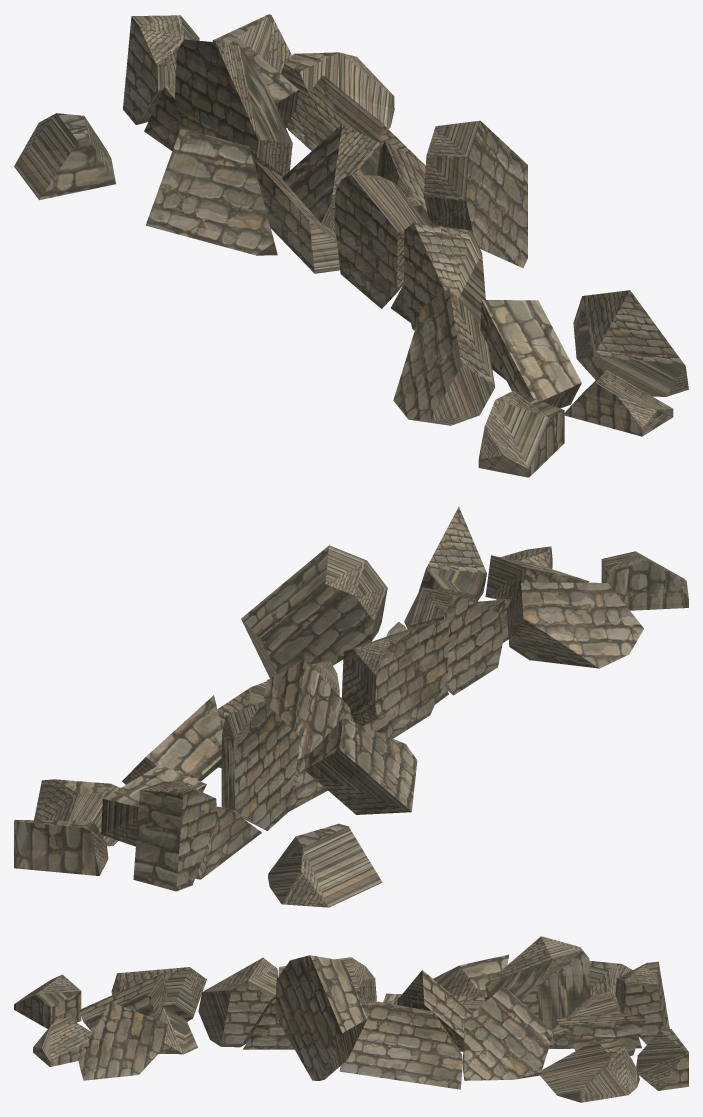
Rendered from BreakWallLarge_000016.obj.
The picture shows the model from 3 angles, top to bottom: view 1: azimuth 30°, elevation 25°; view 2: azimuth 150°, elevation 25°; view 3: azimuth 270°, elevation 25°; orthographic projection. The views are drawn at different scales.
Parts seen in each view (by area): view 1: Cube.057_cell.018_Cube.057_cell.017, Cube.057_cell.017_Cube.057_cell.016, Cube.057_cell.014_Cube.057_cell.013, Cube.057_cell.021_Cube.057_cell.020, Cube.057_cell.013_Cube.057_cell.012, Cube.057_cell.007_Cube.057_cell.006, Cube.057_cell.011_Cube.057_cell.010, Cube.057_cell.010_Cube.057_cell.009, Cube.057_cell.001_Cube.057_cell.000, Cube.057_cell.015_Cube.057_cell.014, Cube.057_cell.003_Cube.057_cell.002, Cube.057_cell_Cube.057_cell.022 (+8 smaller); view 2: Cube.057_cell.018_Cube.057_cell.017, Cube.057_cell.021_Cube.057_cell.020, Cube.057_cell.013_Cube.057_cell.012, Cube.057_cell.014_Cube.057_cell.013, Cube.057_cell.017_Cube.057_cell.016, Cube.057_cell.003_Cube.057_cell.002, Cube.057_cell.001_Cube.057_cell.000, Cube.057_cell.010_Cube.057_cell.009, Cube.057_cell.019_Cube.057_cell.018, Cube.057_cell_Cube.057_cell.022, Cube.057_cell.020_Cube.057_cell.019, Cube.057_cell.015_Cube.057_cell.014 (+8 smaller); view 3: Cube.057_cell.018_Cube.057_cell.017, Cube.057_cell.004_Cube.057_cell.003, Cube.057_cell.020_Cube.057_cell.019, Cube.057_cell.014_Cube.057_cell.013, Cube.057_cell.007_Cube.057_cell.006, Cube.057_cell.010_Cube.057_cell.009, Cube.057_cell.012_Cube.057_cell.011, Cube.057_cell.003_Cube.057_cell.002, Cube.057_cell.019_Cube.057_cell.018, Cube.057_cell_Cube.057_cell.022, Cube.057_cell.016_Cube.057_cell.015, Cube.057_cell.021_Cube.057_cell.020 (+10 smaller).
Part boxes in pixels (left/top/right/bottom): Cube.057_cell.018_Cube.057_cell.017: left=424, top=120, right=527, bottom=267; Cube.057_cell.017_Cube.057_cell.016: left=145, top=128, right=277, bottom=255; Cube.057_cell.014_Cube.057_cell.013: left=174, top=39, right=292, bottom=176; Cube.057_cell.021_Cube.057_cell.020: left=393, top=288, right=495, bottom=425; Cube.057_cell.013_Cube.057_cell.012: left=334, top=174, right=428, bottom=308; Cube.057_cell.007_Cube.057_cell.006: left=573, top=290, right=688, bottom=396; Cube.057_cell.011_Cube.057_cell.010: left=480, top=300, right=581, bottom=408; Cube.057_cell.010_Cube.057_cell.009: left=404, top=222, right=485, bottom=330; Cube.057_cell.001_Cube.057_cell.000: left=14, top=113, right=115, bottom=200; Cube.057_cell.015_Cube.057_cell.014: left=478, top=390, right=564, bottom=477; Cube.057_cell.003_Cube.057_cell.002: left=123, top=15, right=199, bottom=124; Cube.057_cell_Cube.057_cell.022: left=281, top=124, right=381, bottom=231; Cube.057_cell.018_Cube.057_cell.017: left=241, top=545, right=387, bottom=678; Cube.057_cell.021_Cube.057_cell.020: left=506, top=582, right=643, bottom=668; Cube.057_cell.013_Cube.057_cell.012: left=341, top=618, right=448, bottom=738; Cube.057_cell.014_Cube.057_cell.013: left=221, top=701, right=299, bottom=830; Cube.057_cell.017_Cube.057_cell.016: left=304, top=717, right=417, bottom=814; Cube.057_cell.003_Cube.057_cell.002: left=133, top=781, right=217, bottom=891; Cube.057_cell.001_Cube.057_cell.000: left=268, top=823, right=382, bottom=907; Cube.057_cell.010_Cube.057_cell.009: left=404, top=586, right=503, bottom=695; Cube.057_cell.019_Cube.057_cell.018: left=14, top=820, right=108, bottom=875; Cube.057_cell_Cube.057_cell.022: left=263, top=660, right=353, bottom=759; Cube.057_cell.020_Cube.057_cell.019: left=122, top=695, right=222, bottom=784; Cube.057_cell.015_Cube.057_cell.014: left=601, top=551, right=688, bottom=610; Cube.057_cell.018_Cube.057_cell.017: left=275, top=955, right=367, bottom=1080; Cube.057_cell.004_Cube.057_cell.003: left=339, top=1001, right=462, bottom=1089; Cube.057_cell.020_Cube.057_cell.019: left=463, top=986, right=553, bottom=1080; Cube.057_cell.014_Cube.057_cell.013: left=485, top=936, right=590, bottom=1028; Cube.057_cell.007_Cube.057_cell.006: left=78, top=1002, right=167, bottom=1080; Cube.057_cell.010_Cube.057_cell.009: left=198, top=957, right=277, bottom=1047; Cube.057_cell.012_Cube.057_cell.011: left=540, top=1038, right=639, bottom=1102; Cube.057_cell.003_Cube.057_cell.002: left=615, top=961, right=669, bottom=1044; Cube.057_cell.019_Cube.057_cell.018: left=636, top=1029, right=688, bottom=1090; Cube.057_cell_Cube.057_cell.022: left=397, top=970, right=472, bottom=1051; Cube.057_cell.016_Cube.057_cell.015: left=555, top=1013, right=644, bottom=1055; Cube.057_cell.021_Cube.057_cell.020: left=111, top=967, right=206, bottom=1021.
Bounding box in the file's own units: 29.89 × 12.71 × 70.35.
2 materials, 2 textured.
